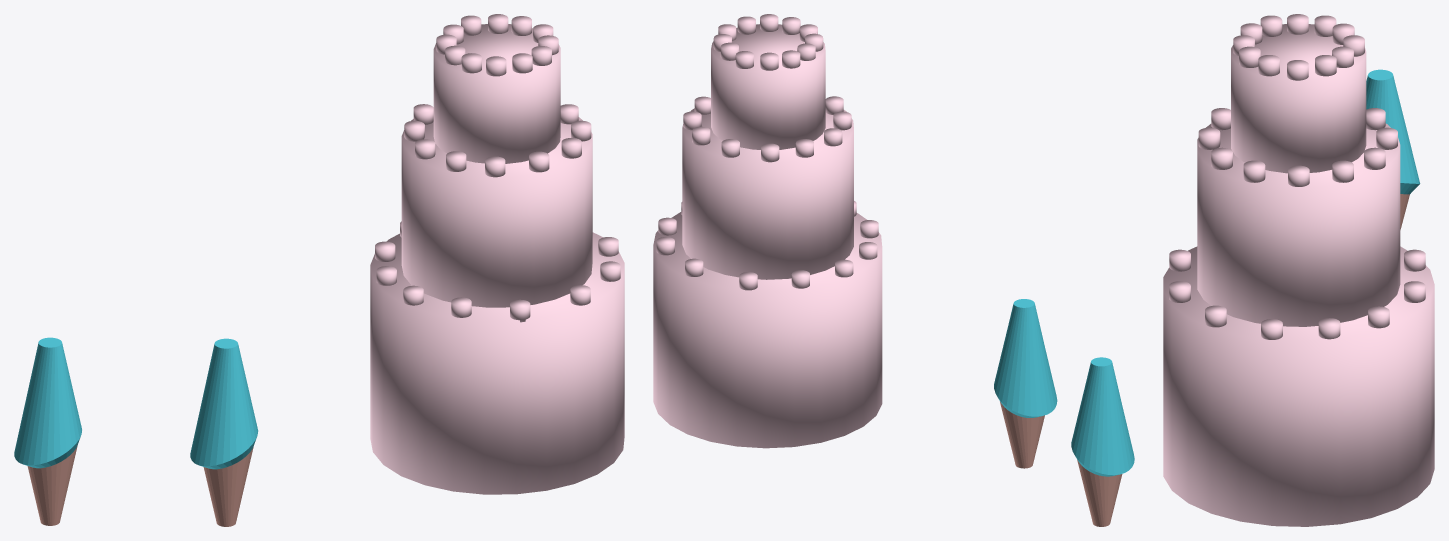
File: cakegltf02.gltf
3 renders of one model, left to right at view 1: azimuth 30°, elevation 25°; view 2: azimuth 150°, elevation 25°; view 3: azimuth 270°, elevation 25°, orthographic. The views are drawn at different scales.
Visible parts, largest first — view 1: Cylinder, Cylinder.002, Cylinder.001, Cone.005, Cone; view 2: Cylinder, Cylinder.002, Cylinder.001, Cone, Cone.005; view 3: Cylinder, Cylinder.002, Cylinder.001, Cone.005, Cylinder.003, Cylinder.009, Cylinder.005, Cylinder.006, Cylinder.007, Cylinder.008, Cylinder.027, Cylinder.038 (+20 smaller).
Boxes of the visible parts, x1,y1,x2,y2 form: Cylinder: [370, 232, 624, 494]; Cylinder.002: [401, 117, 592, 307]; Cylinder.001: [433, 24, 560, 163]; Cone.005: [14, 337, 81, 525]; Cone: [190, 338, 258, 526]; Cylinder: [653, 212, 882, 448]; Cylinder.002: [682, 108, 853, 279]; Cylinder.001: [711, 24, 825, 149]; Cone: [994, 299, 1057, 468]; Cone.005: [1071, 357, 1134, 526]; Cylinder: [1163, 246, 1434, 526]; Cylinder.002: [1197, 123, 1400, 326]; Cylinder.001: [1231, 24, 1366, 173]; Cone.005: [1366, 69, 1420, 229]; Cylinder.003: [1243, 160, 1265, 182]; Cylinder.009: [1198, 127, 1220, 149]; Cylinder.005: [1332, 160, 1353, 182]; Cylinder.006: [1364, 147, 1385, 169]; Cylinder.007: [1211, 147, 1232, 169]; Cylinder.008: [1376, 127, 1397, 149]; Cylinder.027: [1205, 305, 1226, 327]; Cylinder.038: [1169, 249, 1190, 271].
Size of the model in its own units: 6.63 by 4.74 by 2.65.
